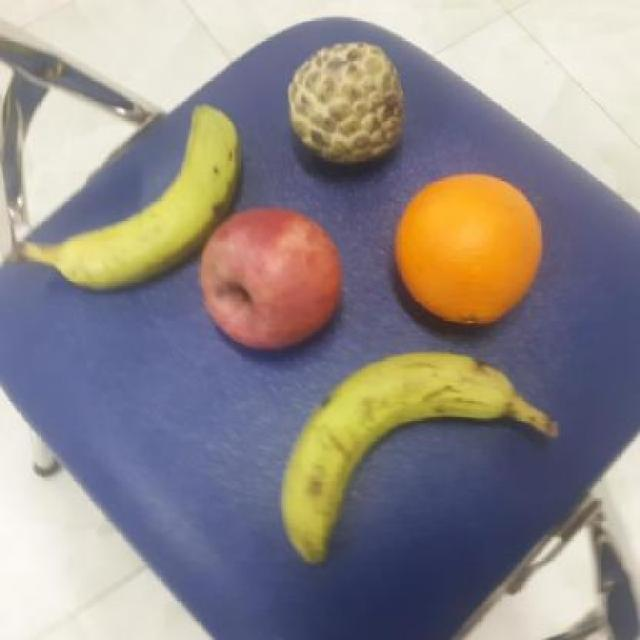apple: (191, 204, 346, 350)
banana: (277, 342, 518, 569), (45, 95, 246, 292)
oren: (386, 170, 548, 328)
sugar apple: (286, 34, 414, 168)
